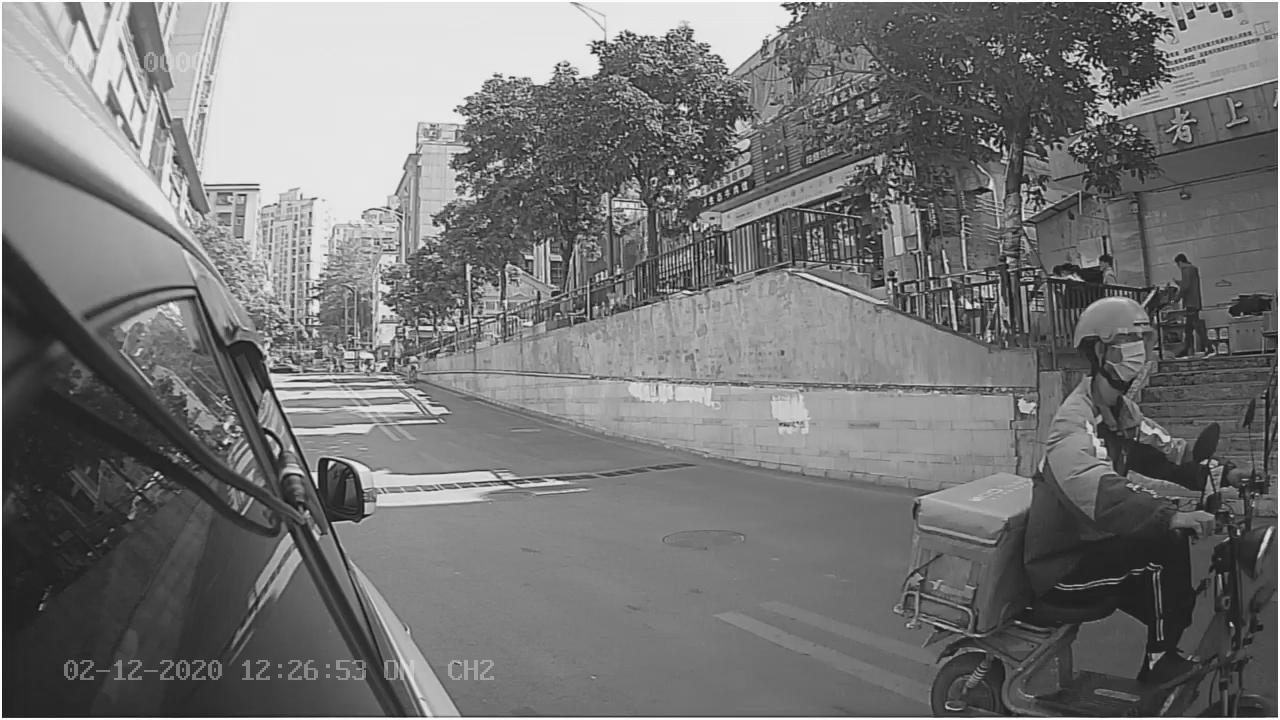person: (1025, 295, 1231, 541)
